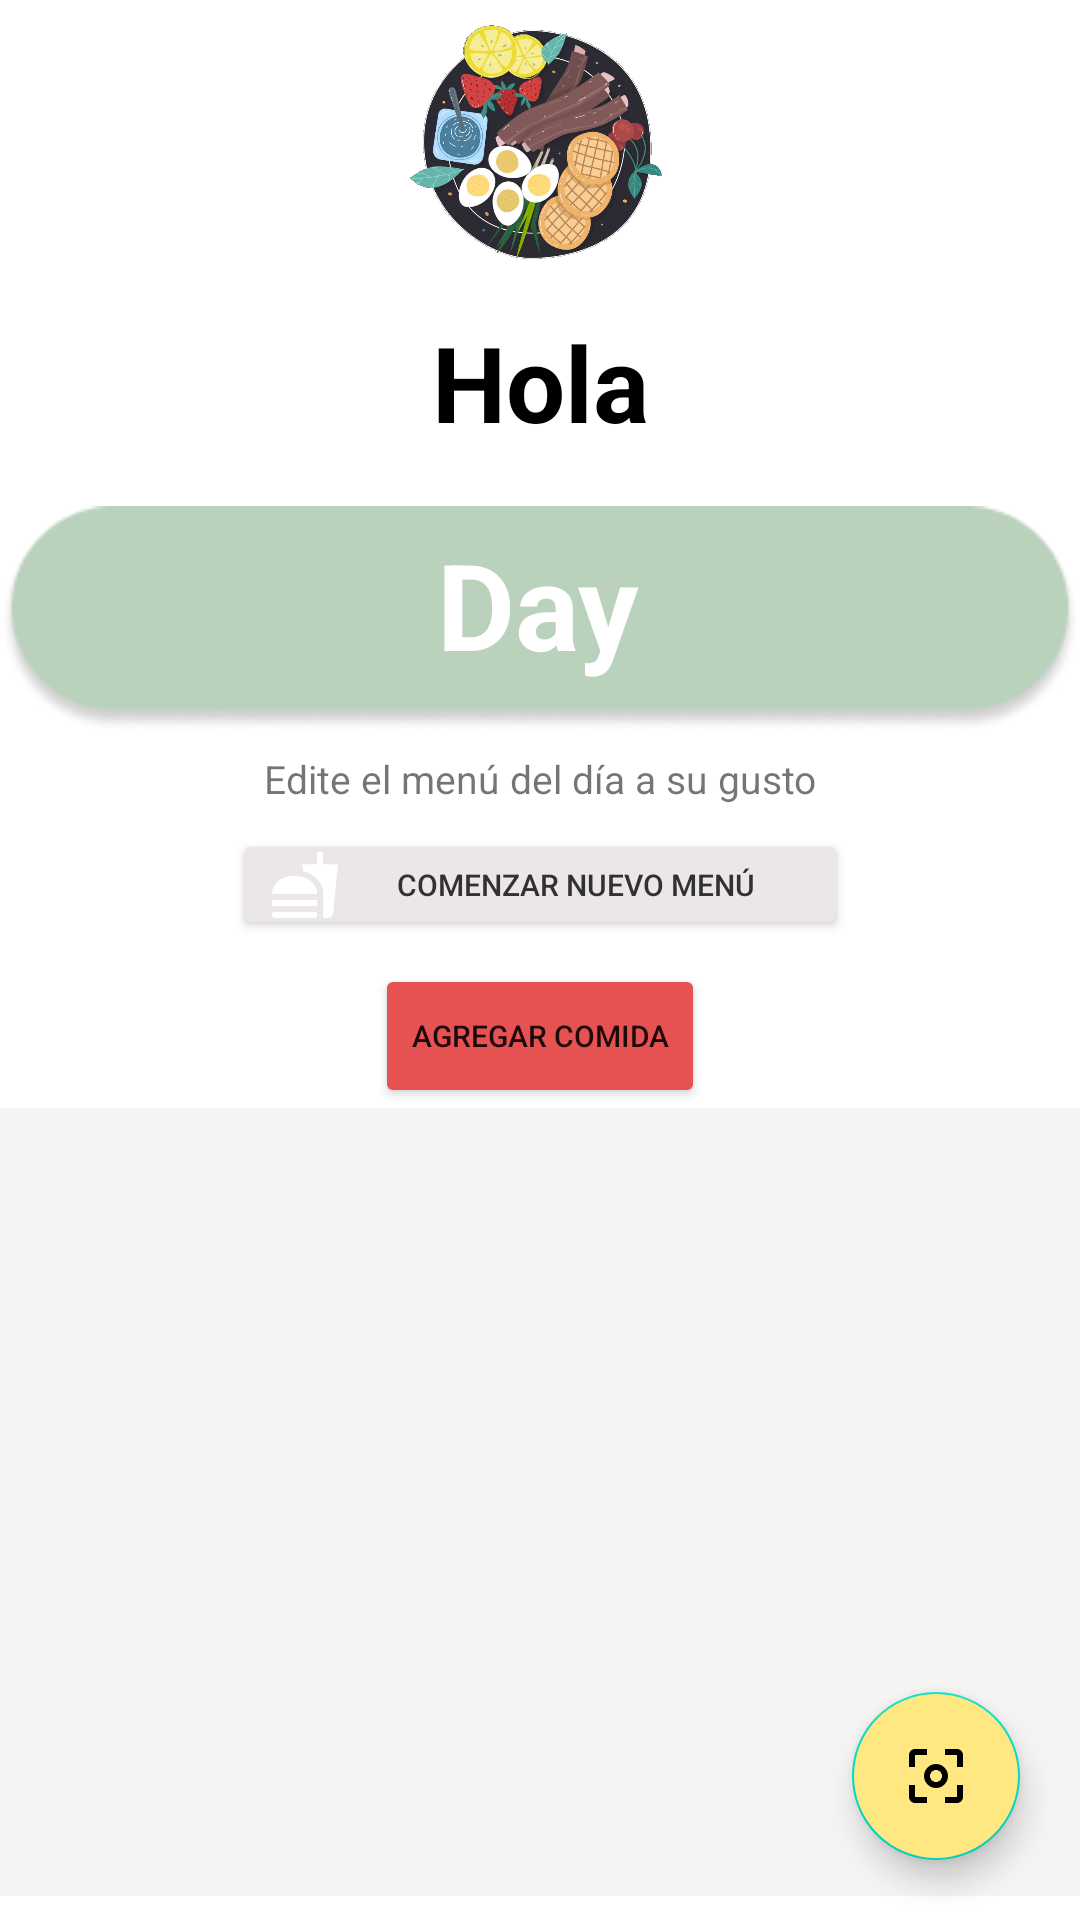

Icons on this 1080px×1920px Android screen, each with its box as (x1, y1, x2, y2):
center focus weak: (852, 1692, 1020, 1860)
